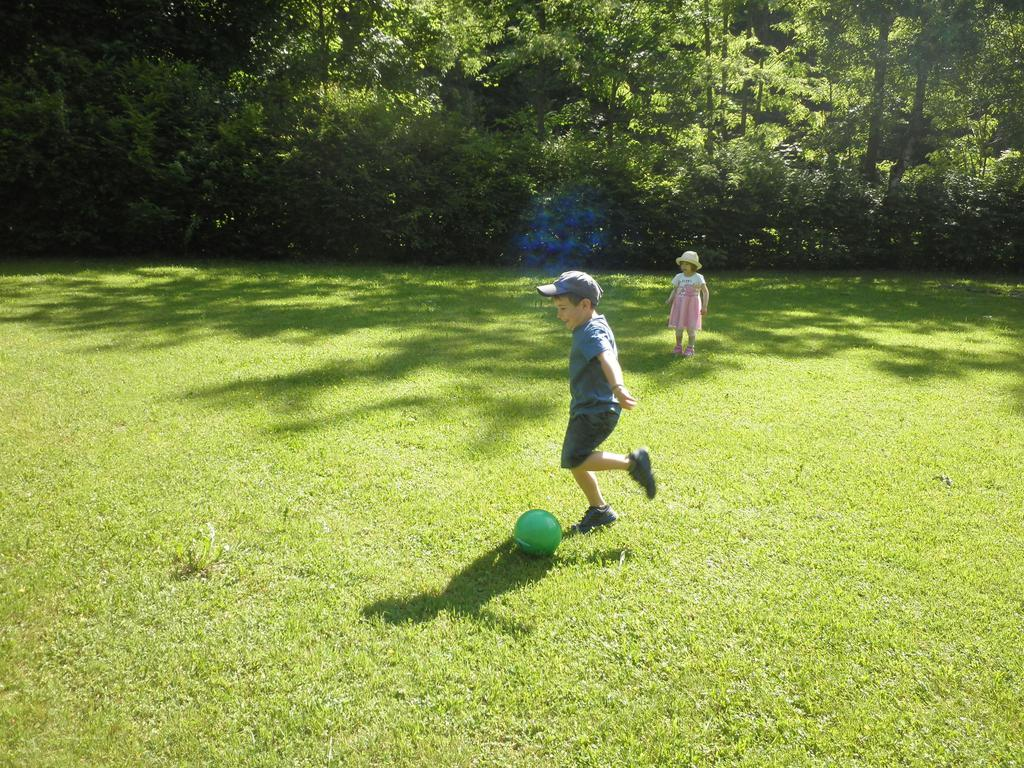child: (516, 263, 678, 548), (644, 245, 730, 370)
